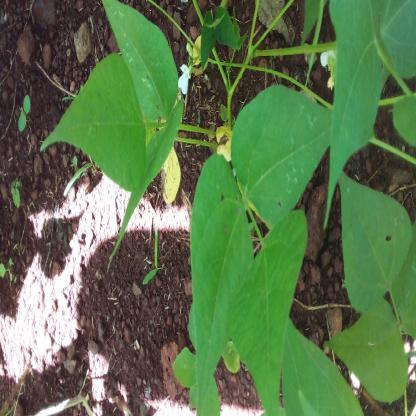Beans_Angular_LeafSpot: (192, 152, 258, 416), (232, 86, 332, 224), (335, 169, 416, 307), (105, 1, 179, 137)
